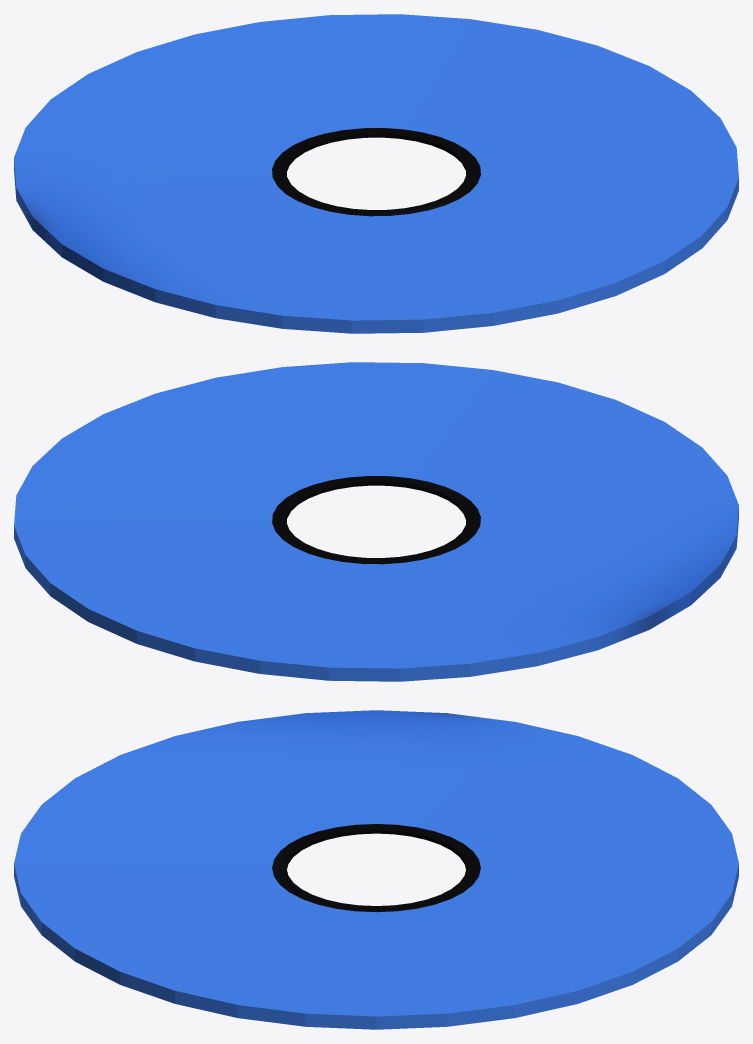
The model's file is Escalier_CD.fbx.
3 views of the same model, one above another, from view 1: azimuth 30°, elevation 25°; view 2: azimuth 150°, elevation 25°; view 3: azimuth 270°, elevation 25° (orthographic).
Visible parts, largest first — view 1: Circle; view 2: Circle; view 3: Circle.
Boxes of the visible parts, x1,y1,x2,y2 form: Circle: (14,14,738,333); Circle: (14,362,738,681); Circle: (14,710,738,1029).
Size of the model in its own units: 727 by 14.6 by 727.
